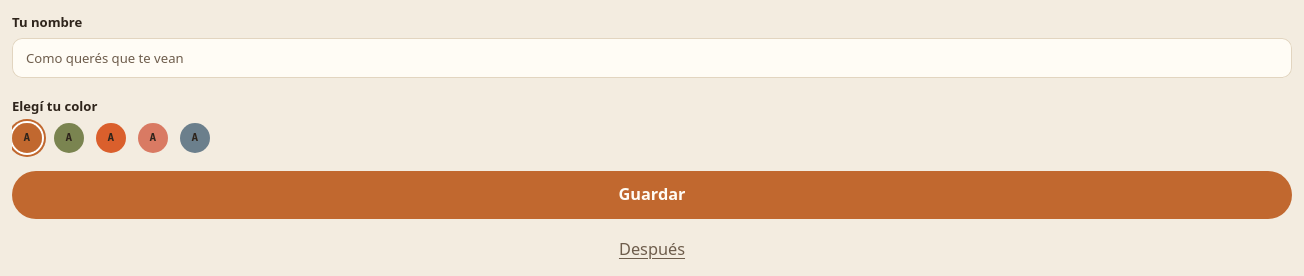
it: FirstRunForm › shows the busy label and disables both buttons while Guardar is pending
Type "Juan" into the field labelled "Tu nombre".
click(652, 58); type("Juan")  # box [26,48,1278,68]
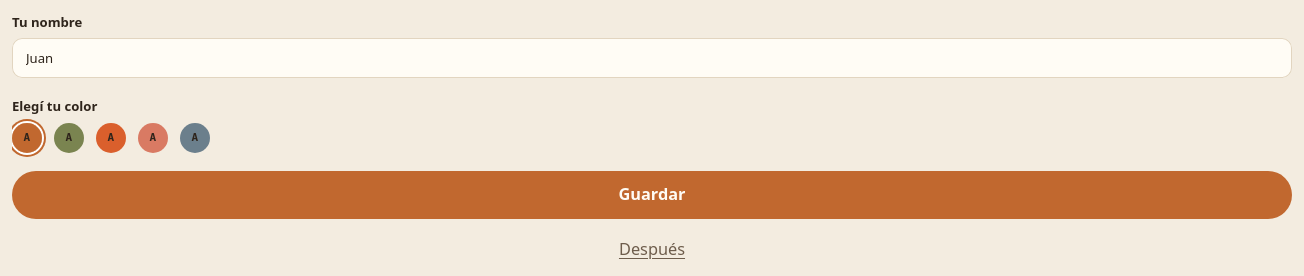
Click the button "Guardar".
click(652, 195)  # box [12,171,1292,219]
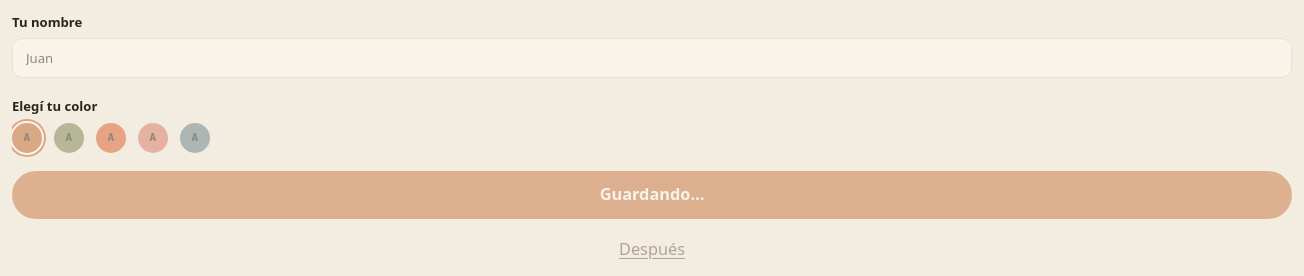
Check: the button "Guardando…" is disabled, box [12,171,1292,219]
